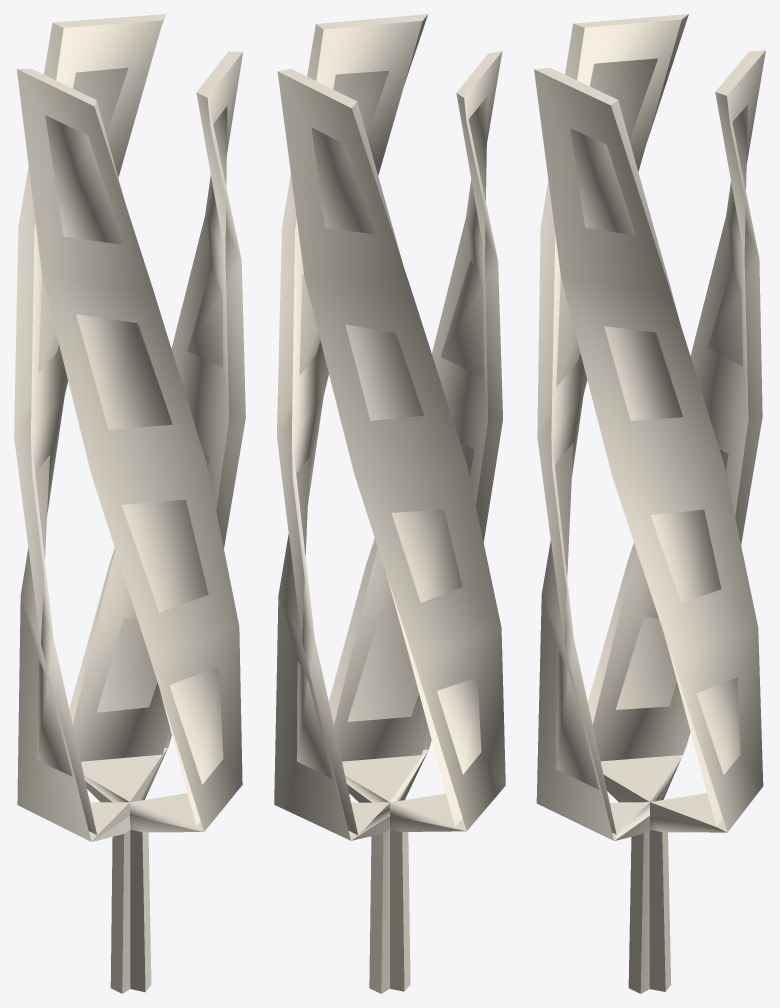
The model's file is WindGenerator (13).obj.
The picture shows the model from 3 angles, left to right: view 1: azimuth 30°, elevation 25°; view 2: azimuth 150°, elevation 25°; view 3: azimuth 270°, elevation 25°; orthographic projection.
Visible parts, largest first — view 1: WindGenerator (13); view 2: WindGenerator (13); view 3: WindGenerator (13).
Part boxes in pixels (box(x1,y1,x2,y2)): WindGenerator (13): box(14, 14, 245, 993); WindGenerator (13): box(274, 14, 505, 993); WindGenerator (13): box(534, 14, 765, 993).
Size of the model in its own units: 4.25 by 18.8 by 4.25.
